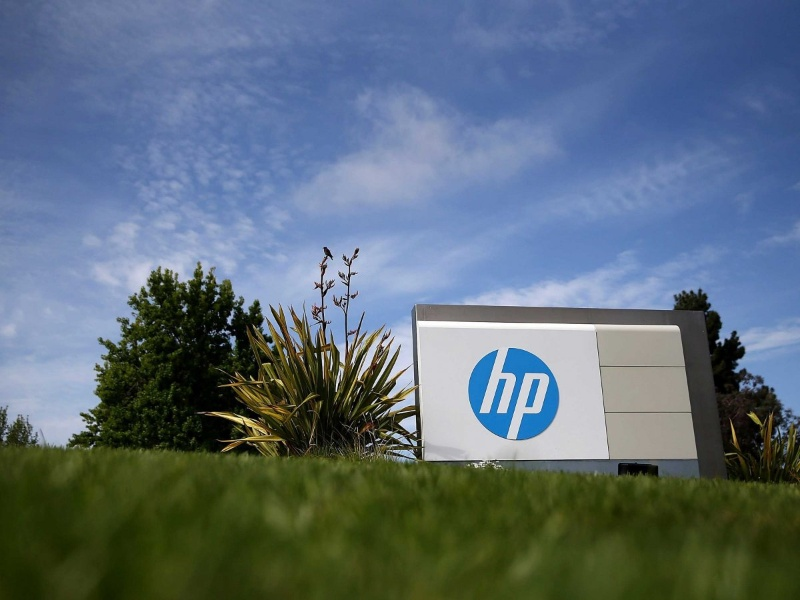hp: (475, 345, 551, 441)
